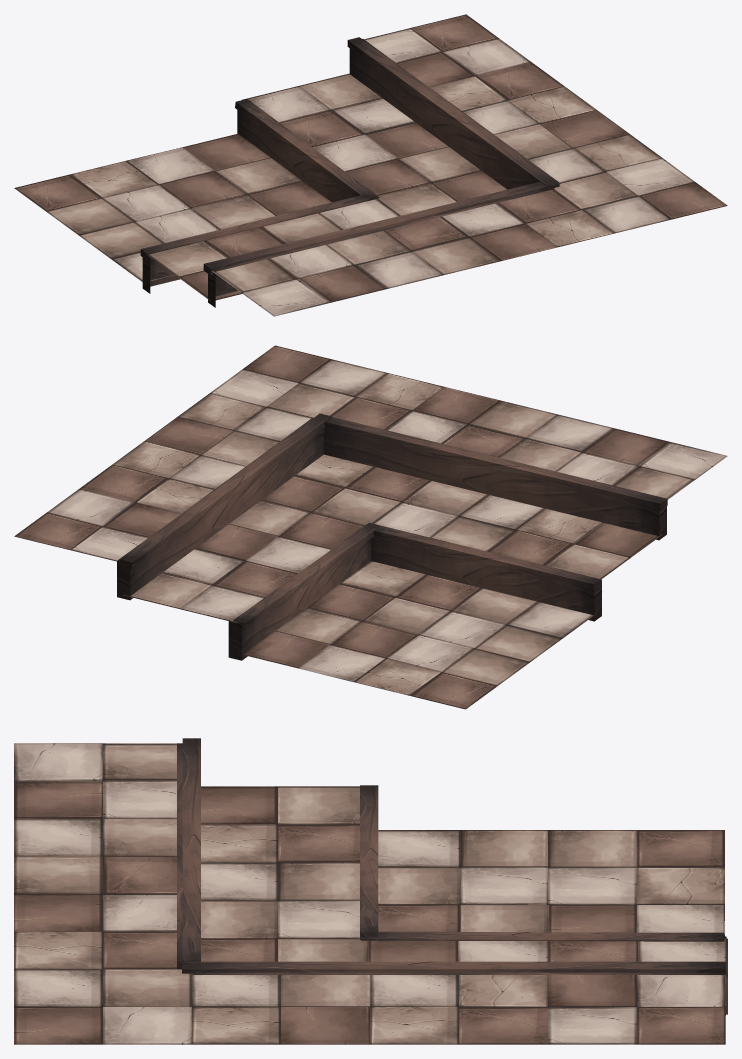
The model's file is Corner2.fbx.
The picture shows the model from 3 angles, top to bottom: view 1: azimuth 30°, elevation 25°; view 2: azimuth 150°, elevation 25°; view 3: azimuth 270°, elevation 25°; orthographic projection. The views are drawn at different scales.
Visible parts, largest first — view 1: Corner2_lp; view 2: Corner2_lp; view 3: Corner2_lp.
Part boxes in pixels (x1,y1,x2,y2): Corner2_lp: (14, 14, 727, 316); Corner2_lp: (14, 345, 727, 709); Corner2_lp: (14, 738, 727, 1044).
Size of the model in its own units: 0.6057 by 0.092 by 0.6046.
